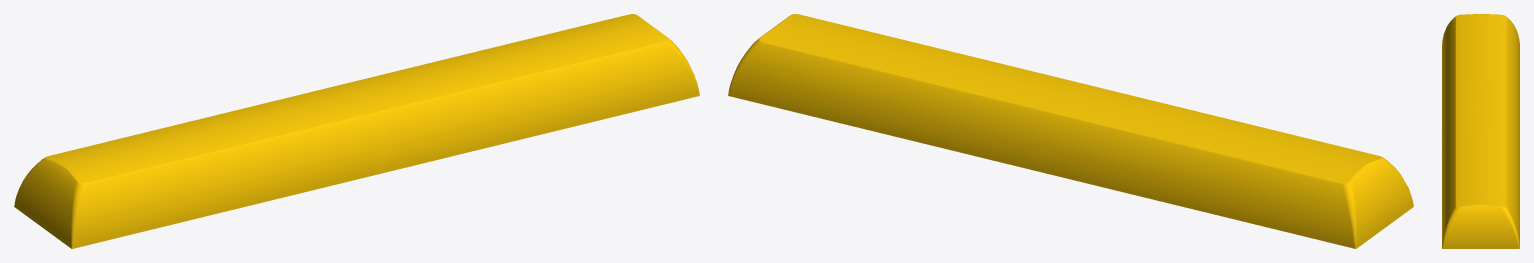
The model's file is 6u_convex_compressed.glb.
3 views of the same model, side by side, from view 1: azimuth 30°, elevation 25°; view 2: azimuth 150°, elevation 25°; view 3: azimuth 270°, elevation 25° (orthographic). The views are drawn at different scales.
Parts seen in each view (by area): view 1: Body2; view 2: Body2; view 3: Body2.
Boxes of the visible parts, x1,y1,x2,y2 form: Body2: (14, 14, 699, 248); Body2: (728, 14, 1413, 248); Body2: (1442, 14, 1519, 248).
Size of the model in its own units: 114 by 9.64 by 18.28.
